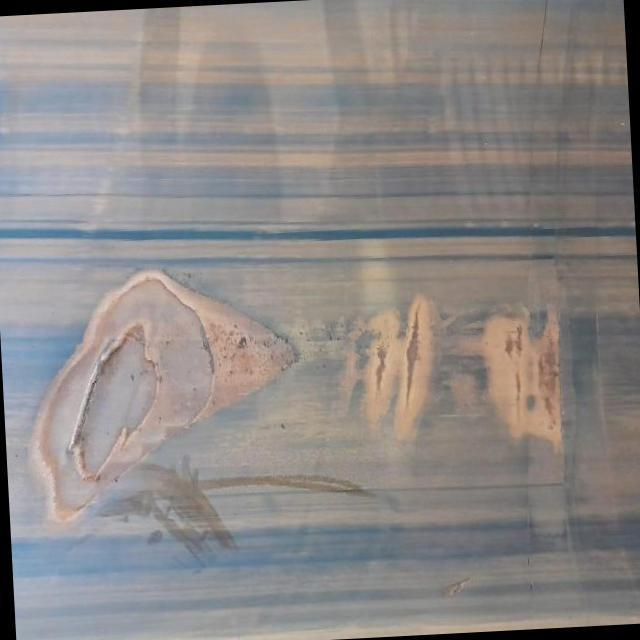Tear: (23, 259, 284, 530), (403, 299, 425, 408), (362, 332, 392, 398)
Wear: (470, 292, 584, 443)
